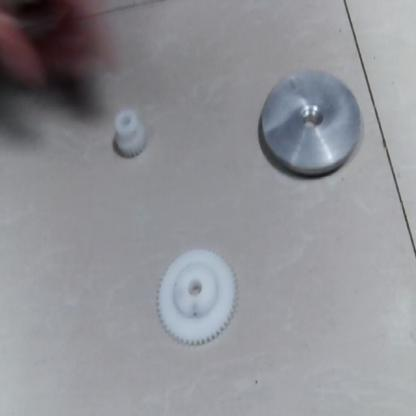FOD: (255, 70, 366, 181), (155, 249, 240, 348), (103, 108, 151, 164)
